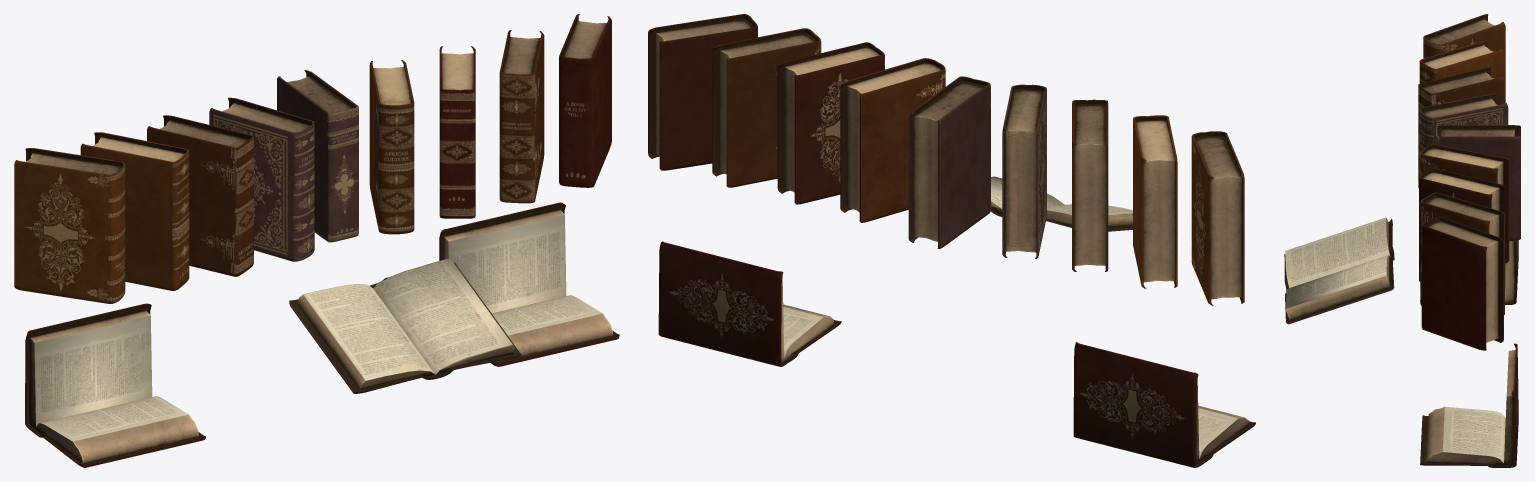
File: old-books.glb
3 views of the same model, side by side, from view 1: azimuth 30°, elevation 25°; view 2: azimuth 150°, elevation 25°; view 3: azimuth 270°, elevation 25° (orthographic). The views are drawn at different scales.
Parts seen in each view (by area): view 1: defaultMaterial; view 2: defaultMaterial; view 3: defaultMaterial.
Part boxes in pixels (x1,y1,x2,y2): defaultMaterial: (14,14,619,467); defaultMaterial: (648,14,1255,467); defaultMaterial: (1284,14,1520,467).
Bounding box in the file's own units: 92.82 × 42.74 × 39.52.
Materials: 1 (1 with a texture image).
